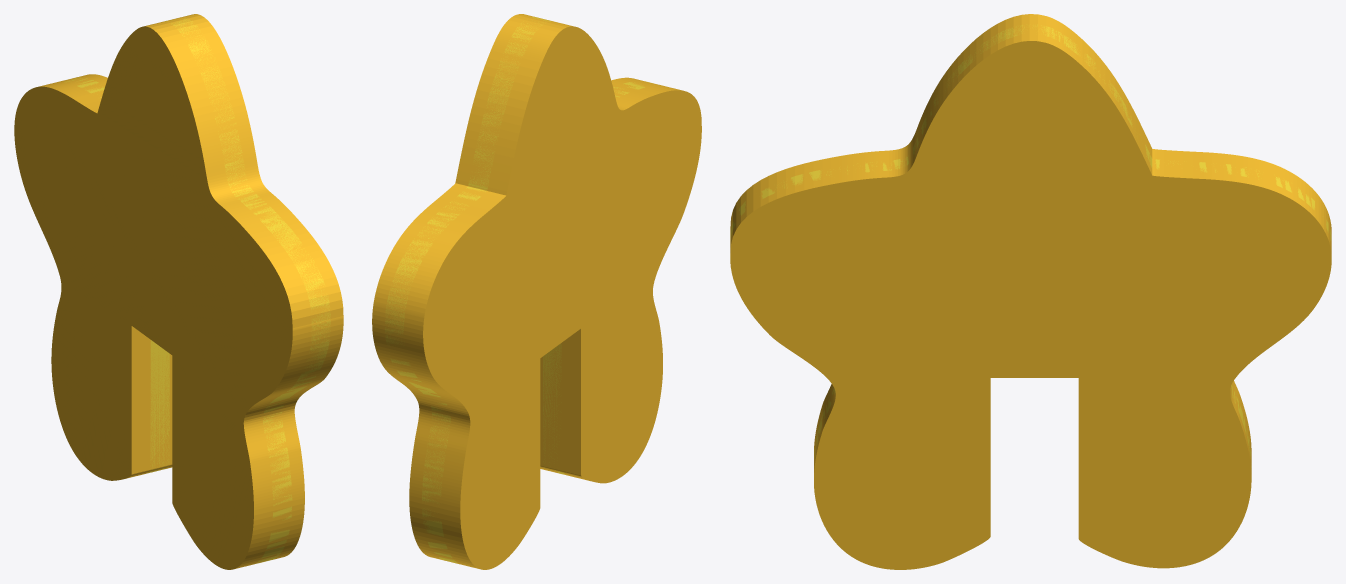
Rendered from topper-star-01.glb.
3 views of the same model, side by side, from view 1: azimuth 30°, elevation 25°; view 2: azimuth 150°, elevation 25°; view 3: azimuth 270°, elevation 25° (orthographic). The views are drawn at different scales.
Parts seen in each view (by area): view 1: topper-star-01; view 2: topper-star-01; view 3: topper-star-01.
Part boxes in pixels (x1,y1,x2,y2): topper-star-01: (14, 14, 343, 569); topper-star-01: (372, 14, 701, 569); topper-star-01: (730, 14, 1331, 569).
Size of the model in its own units: 24 by 221 by 227.
Materials: 4 (2 with a texture image).
